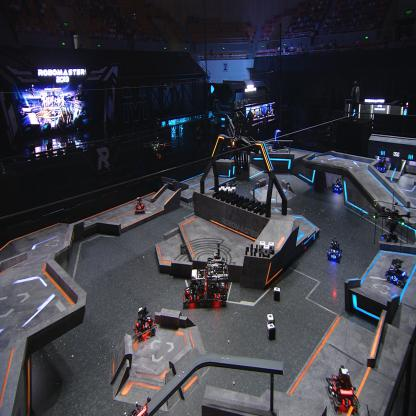car: (326, 364, 358, 412), (203, 256, 229, 308), (182, 268, 206, 309), (133, 304, 156, 342), (386, 257, 408, 288), (328, 235, 342, 262), (224, 180, 237, 202), (134, 197, 145, 215), (375, 156, 387, 172), (332, 178, 343, 193)
